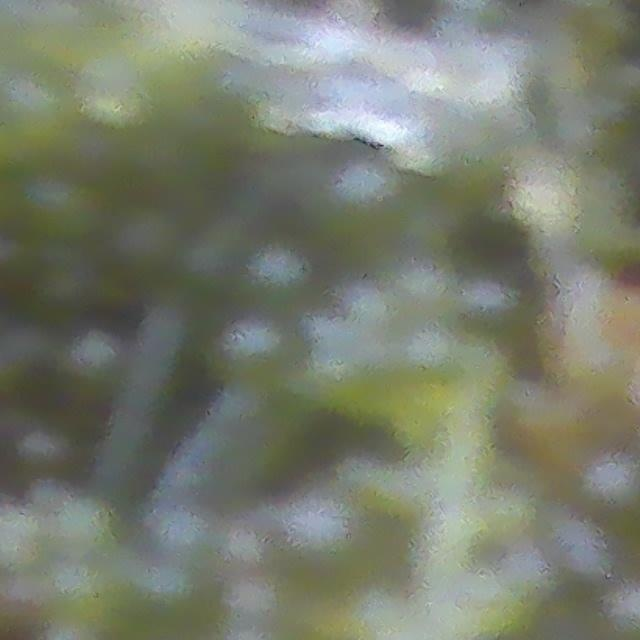SeaGrape: (55, 495, 113, 554)
